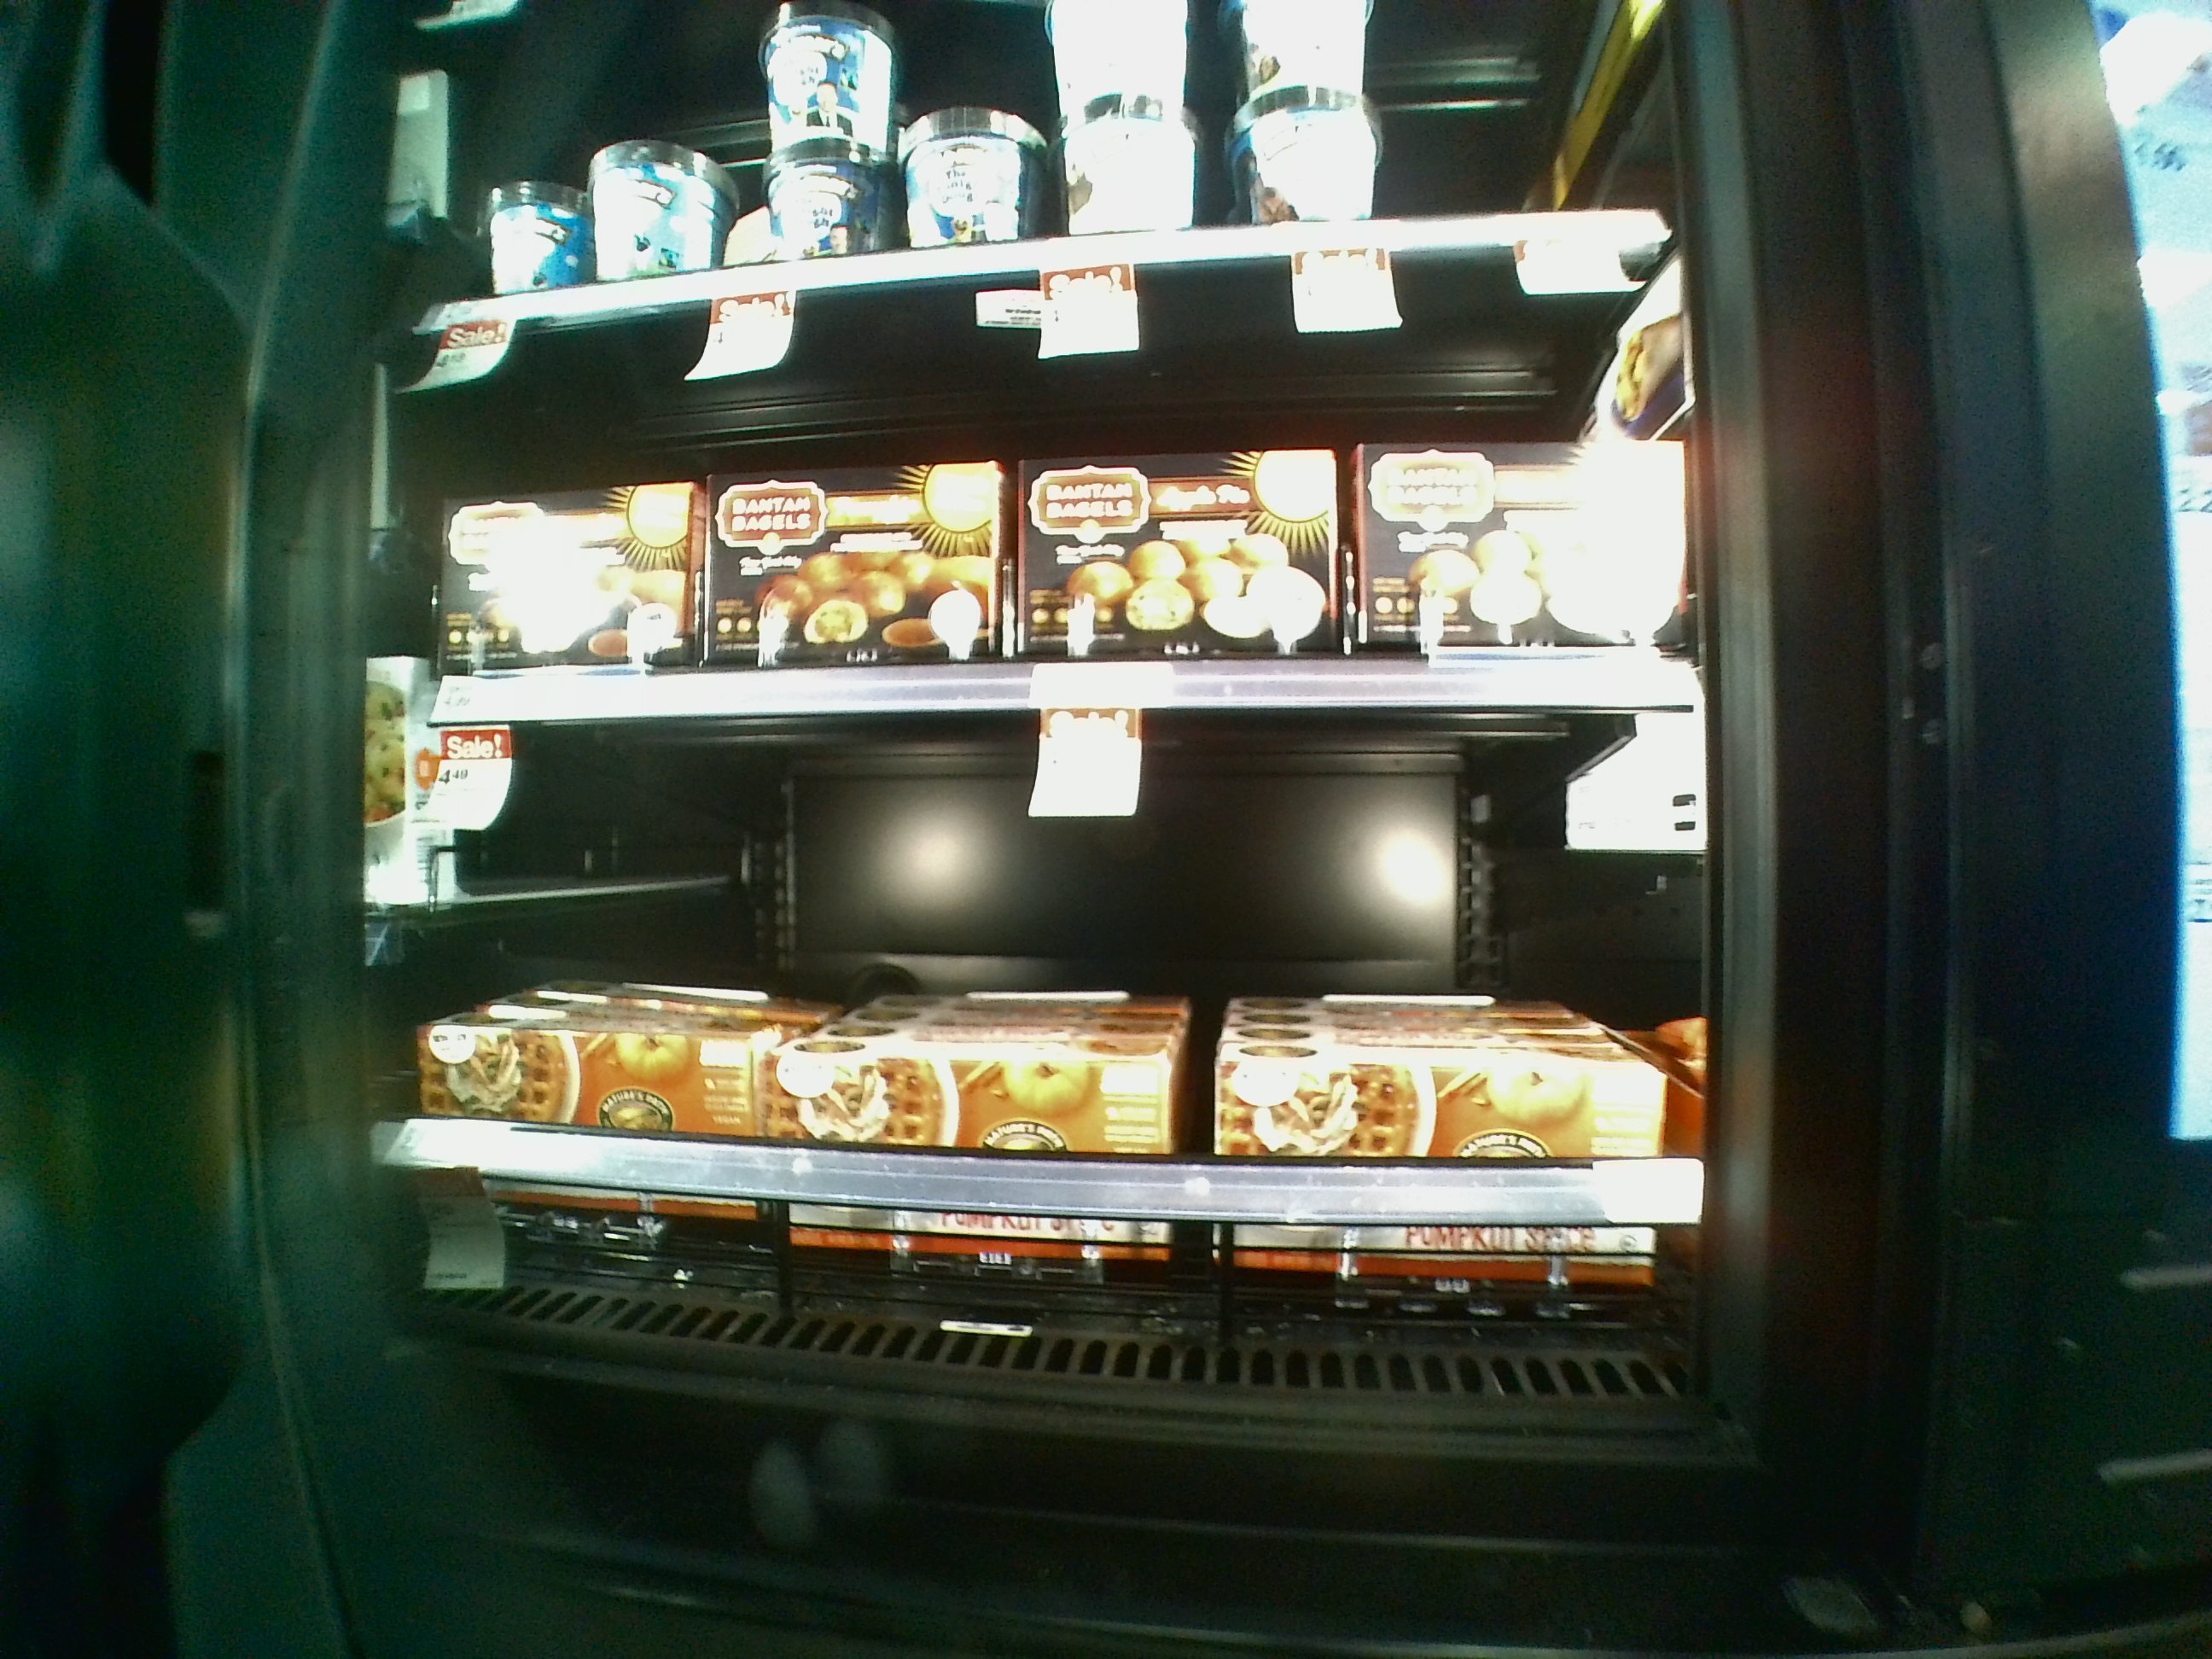shelf: (381, 683, 1730, 1425), (371, 300, 1721, 708)
